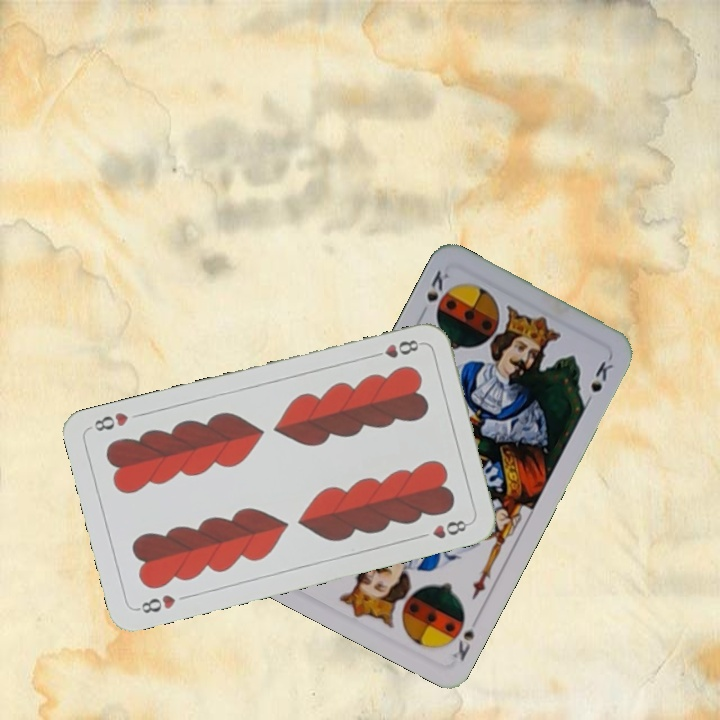H8: (367, 335, 425, 361), (132, 590, 178, 616)
SK: (444, 609, 477, 664), (422, 266, 453, 305)
